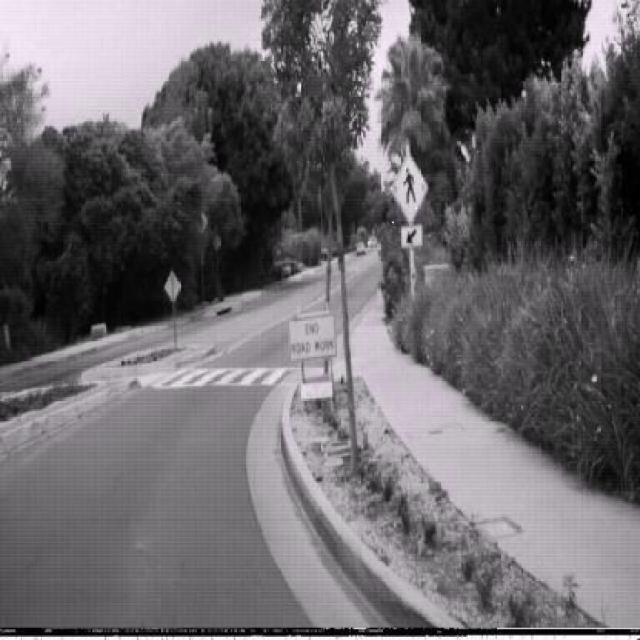pedestrianCrossing: (391, 149, 428, 224)
